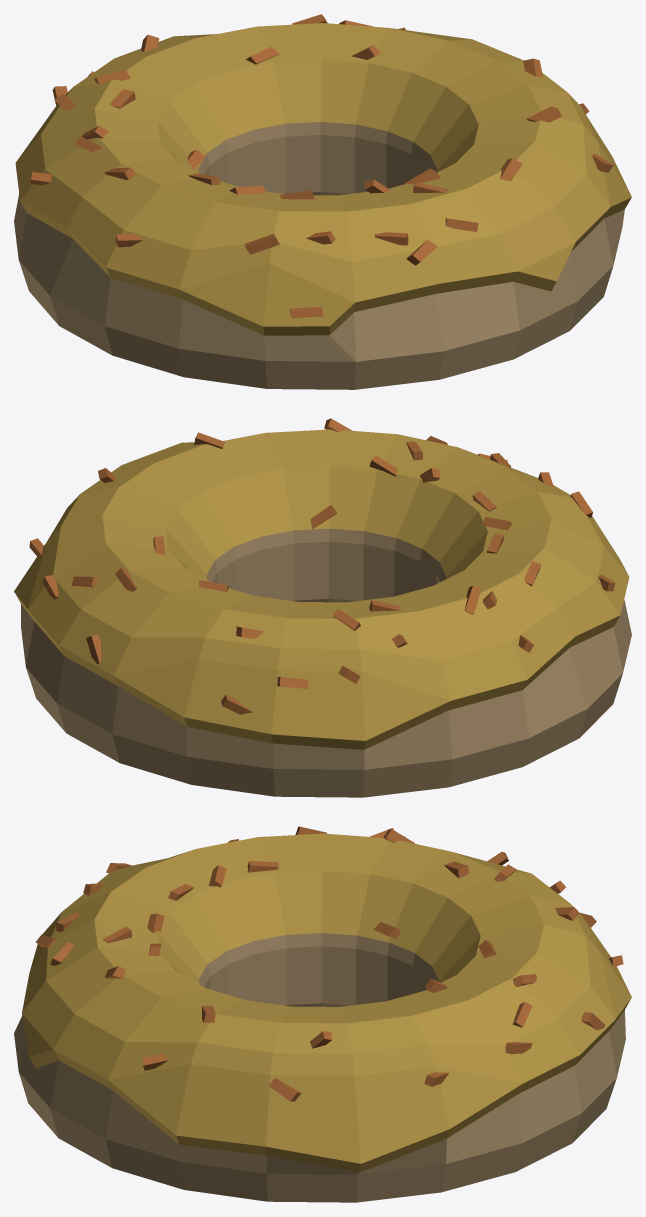
Rendered from Donut2.glb.
3 renders of one model, top to bottom at view 1: azimuth 30°, elevation 25°; view 2: azimuth 150°, elevation 25°; view 3: azimuth 270°, elevation 25°, orthographic.
Visible parts, largest first — view 1: Donut2; view 2: Donut2; view 3: Donut2.
Part boxes in pixels (left/top/right/bottom): Donut2: left=14, top=14, right=631, bottom=389; Donut2: left=14, top=418, right=631, bottom=797; Donut2: left=14, top=826, right=631, bottom=1202.
Size of the model in its own units: 0.0967 by 0.0321 by 0.0954.
